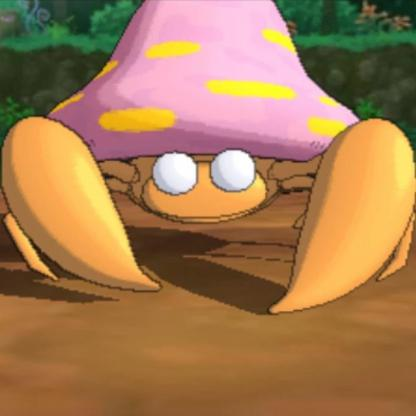Parasect: (10, 1, 416, 315)
